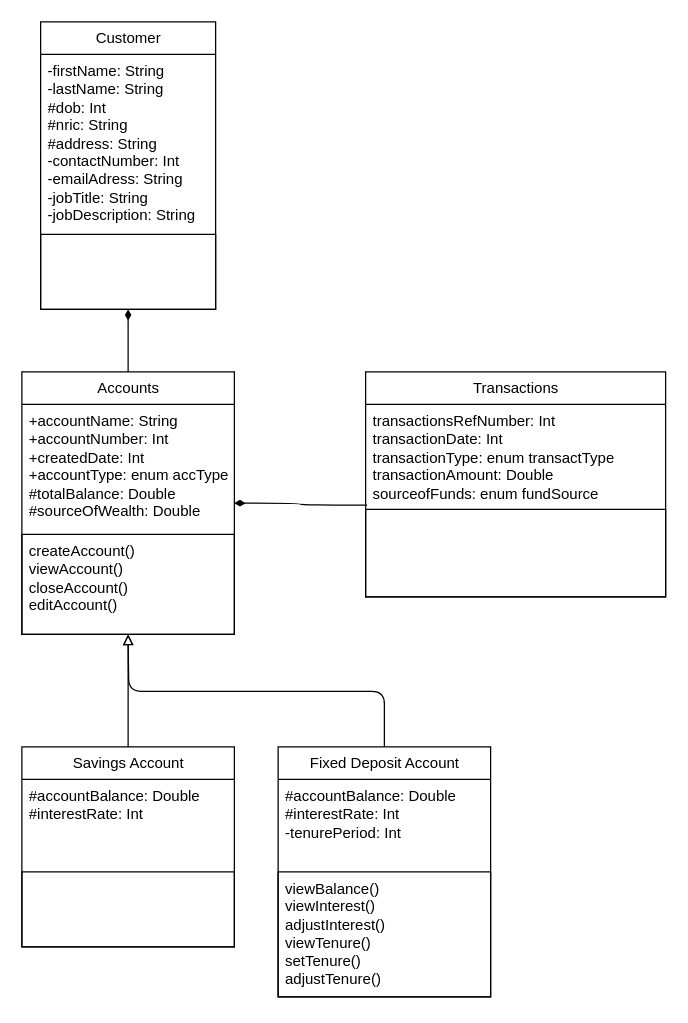
This 688x1023 diagram has some shape labels left out. The centre of each missing label's shape, as x and y in pixels:
"depositFunds() withdrawFunds() payLoan() viewTransactions()" goes at point 515,552.
"retrieveCustomerInfo() editCustomerInfo() registerCustomer()" goes at point 127,271.
"viewBalance() viewInterest() setInterest()" goes at point 127,909.
